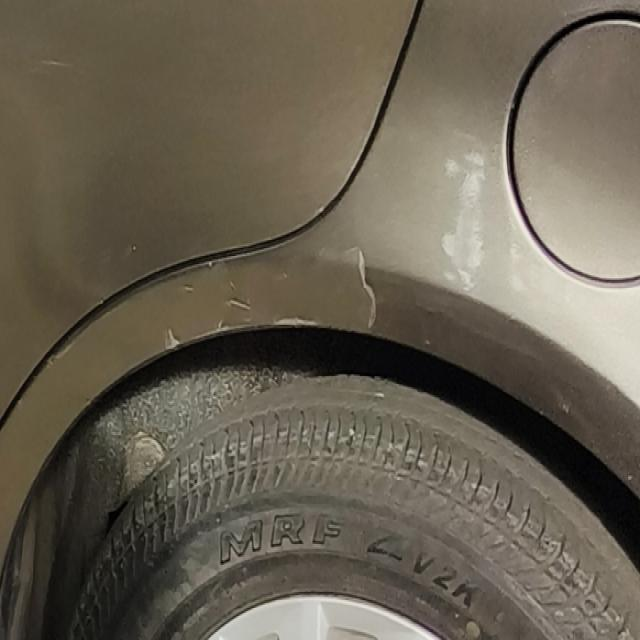scratch: (148, 240, 388, 354), (429, 134, 502, 292), (30, 42, 78, 84)
